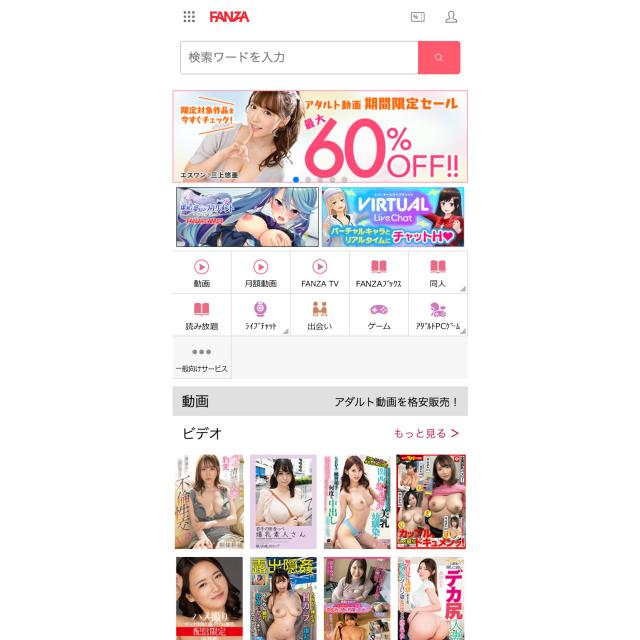CheckBox: (418, 41, 461, 75)
CheckedTextView: (179, 41, 461, 75)
bag: (170, 1, 468, 92)
card: (172, 89, 469, 183)
carousel: (406, 10, 428, 24), (444, 9, 459, 25), (182, 9, 196, 25)
copy: (323, 186, 465, 247), (176, 187, 318, 246), (174, 452, 245, 549), (396, 453, 466, 549), (324, 456, 392, 550), (250, 455, 316, 549)
date picker: (206, 8, 251, 27)
decoration: (174, 250, 467, 336)
dropdown: (286, 173, 351, 187)
footer: (184, 48, 288, 67)
